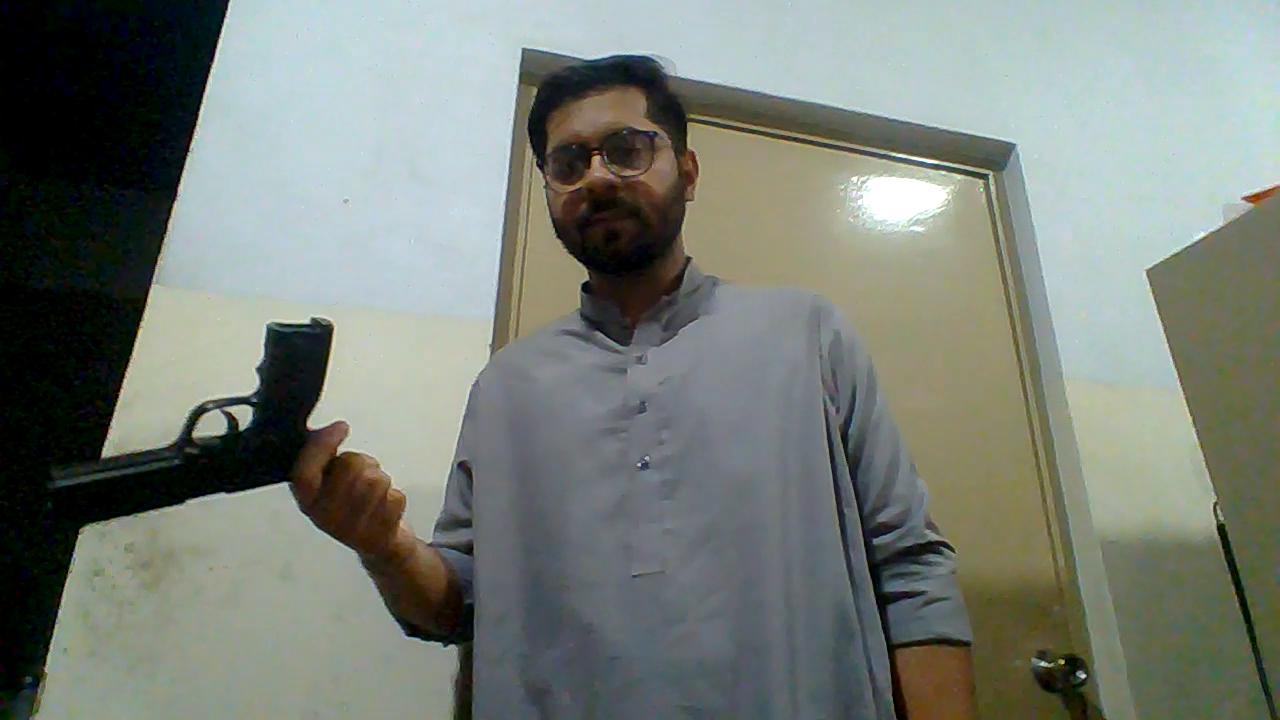criminal: (42, 50, 979, 720)
weapon: (43, 316, 334, 527)
